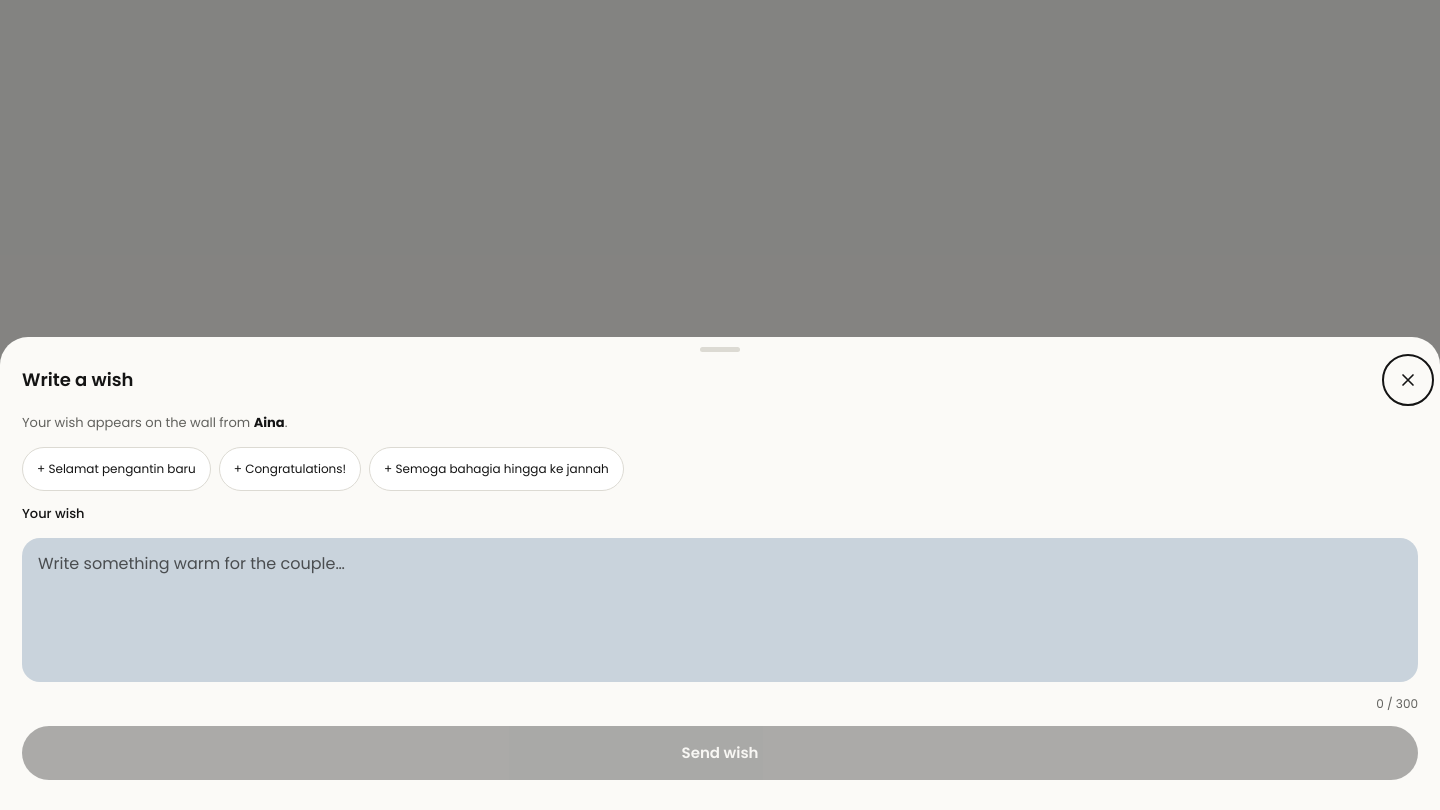
it: WishDrawer › keeps Send disabled until the wish has 3 characters
Expected: the button "Send wish" is disabled, [22,726,1418,780]
Step 1. Type "  ab " into the text box labelled "Your wish" → [720, 610], box [22,538,1418,682]
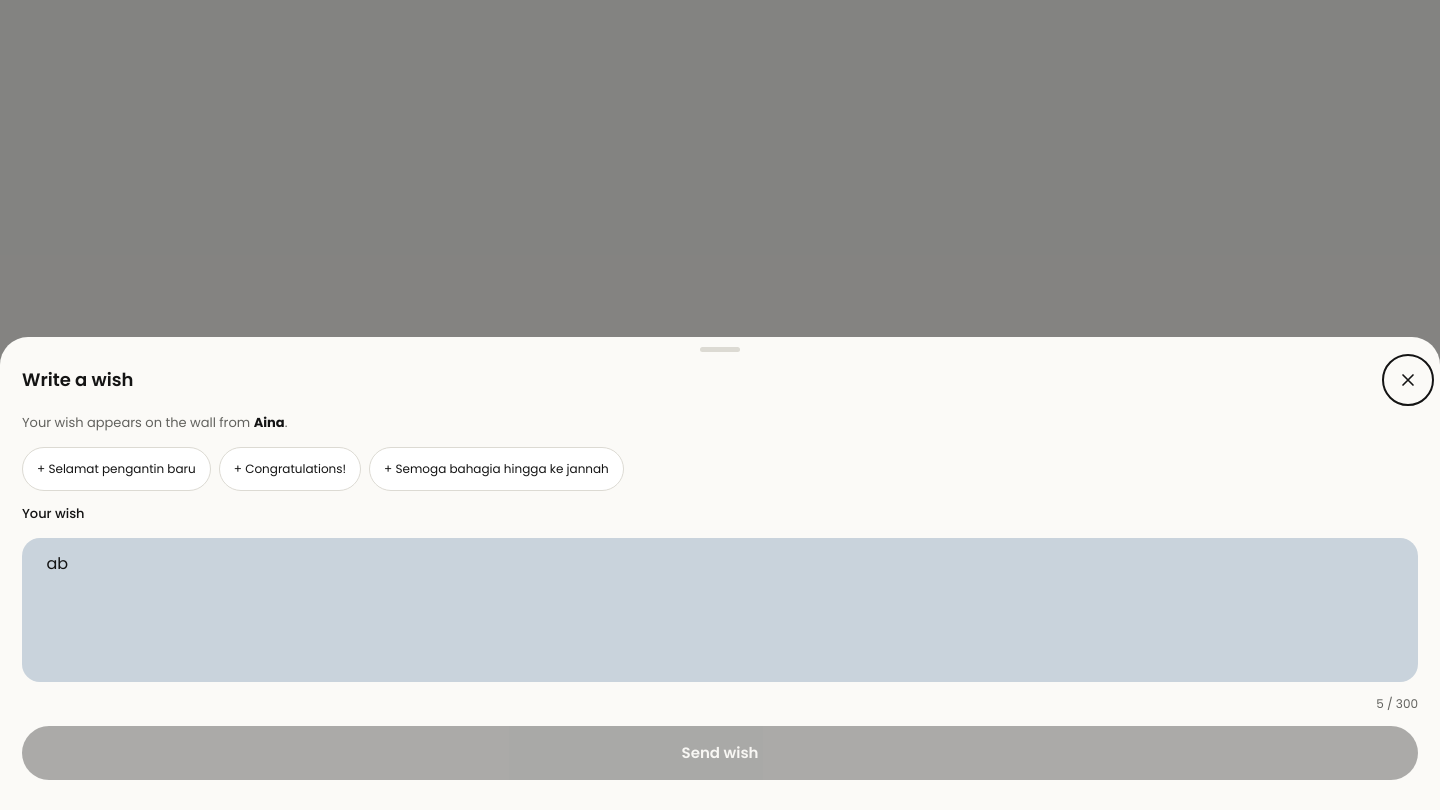
Expected: the button "Send wish" is disabled, [22,726,1418,780]
Step 2. Replace the text in the text box labelled "Your wish" with "abc" → [720, 610], box [22,538,1418,682]
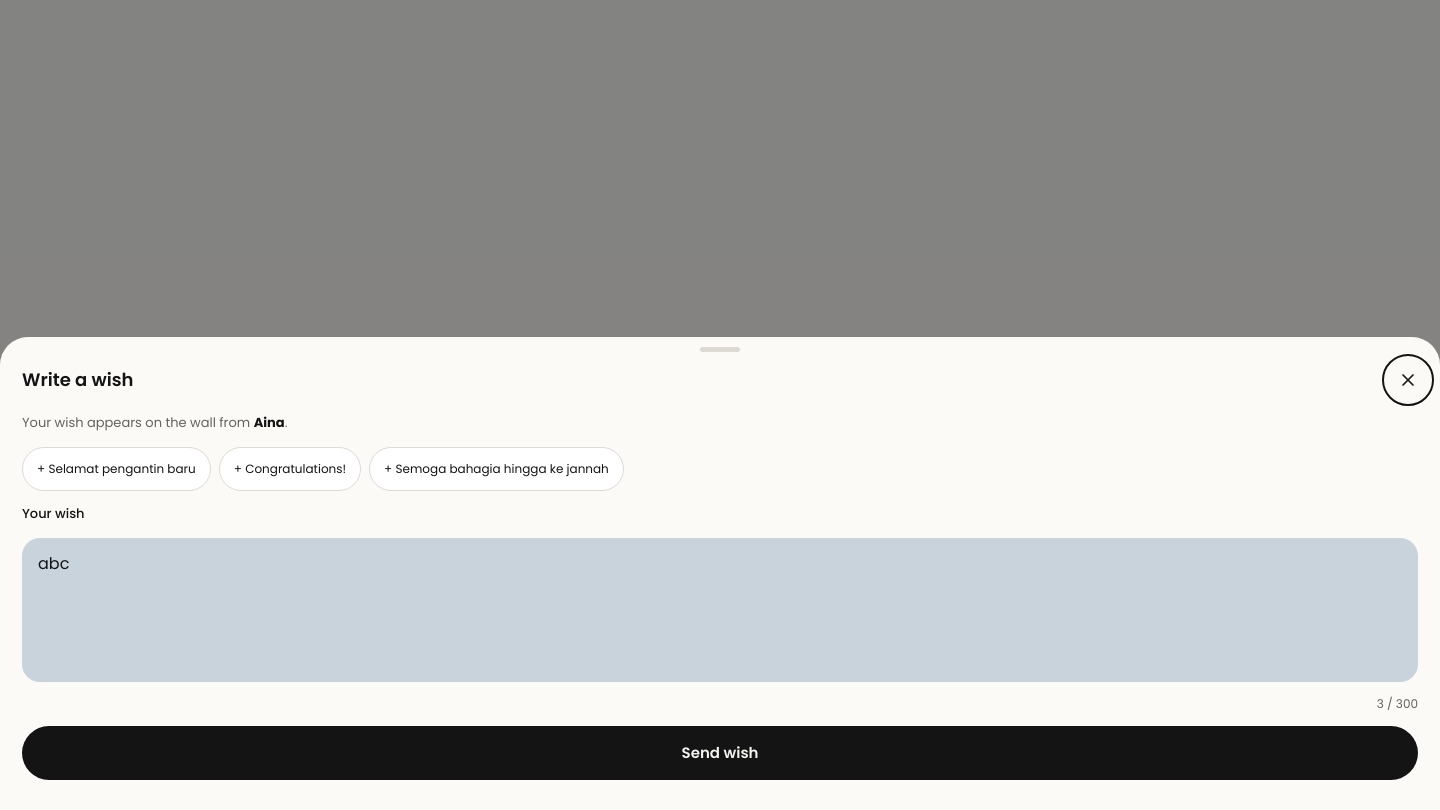
Expected: the button "Send wish" is enabled, [22,726,1418,780]
